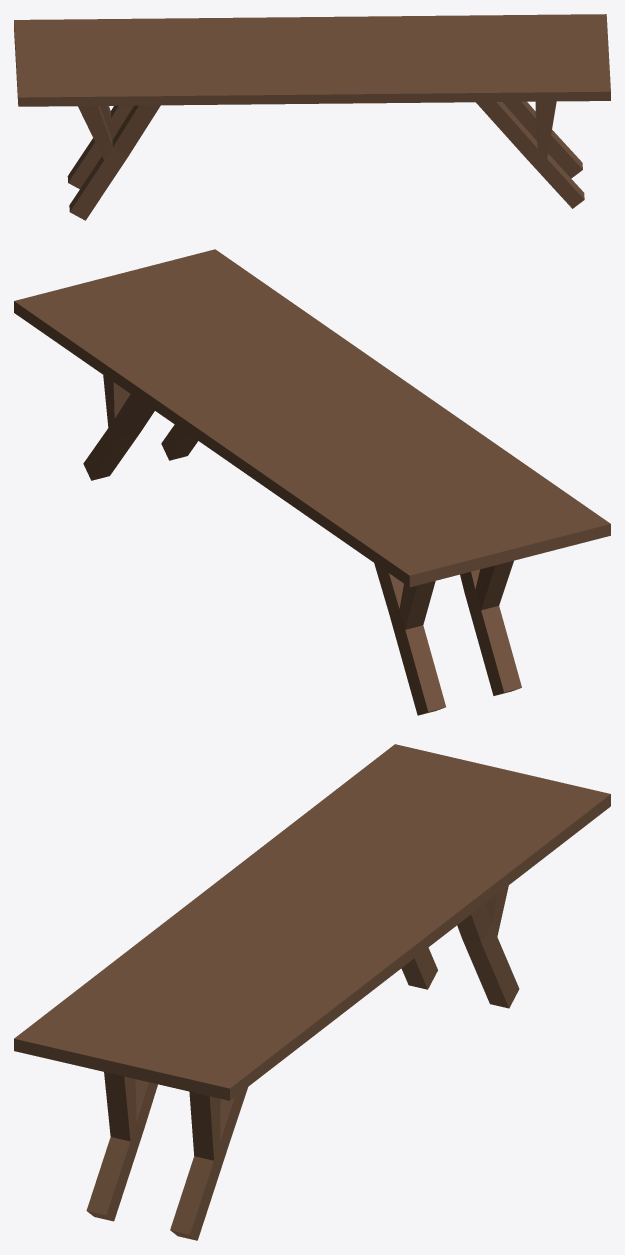
The model's file is trab edu mesa.fbx.
3 renders of one model, top to bottom at view 1: azimuth 30°, elevation 25°; view 2: azimuth 150°, elevation 25°; view 3: azimuth 270°, elevation 25°, orthographic. The views are drawn at different scales.
Visible parts, largest first — view 1: Cubo.002; view 2: Cubo.002; view 3: Cubo.002.
Part boxes in pixels (x1,y1,x2,y2): Cubo.002: [14, 14, 610, 220]; Cubo.002: [14, 249, 610, 715]; Cubo.002: [14, 744, 610, 1240].
Bounding box in the file's own units: 662 × 174 × 485.
